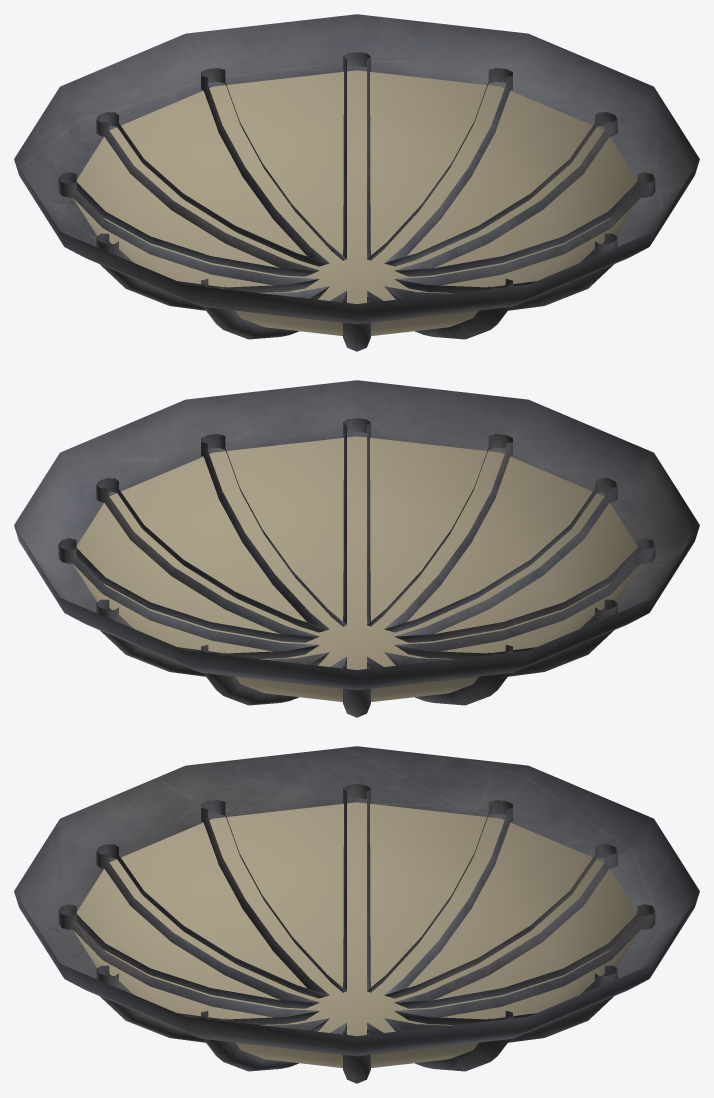
The model's file is Incinerator_Roof_Light.fbx.
3 views of the same model, one above another, from view 1: azimuth 30°, elevation 25°; view 2: azimuth 150°, elevation 25°; view 3: azimuth 270°, elevation 25° (orthographic).
Parts seen in each view (by area): view 1: Incinerator_Roof_Light; view 2: Incinerator_Roof_Light; view 3: Incinerator_Roof_Light.
Part boxes in pixels (x1,y1,x2,y2): Incinerator_Roof_Light: (14,14,699,351); Incinerator_Roof_Light: (14,380,699,717); Incinerator_Roof_Light: (14,746,699,1083).
Bounding box in the file's own units: 4.91 × 1.1 × 4.91.
